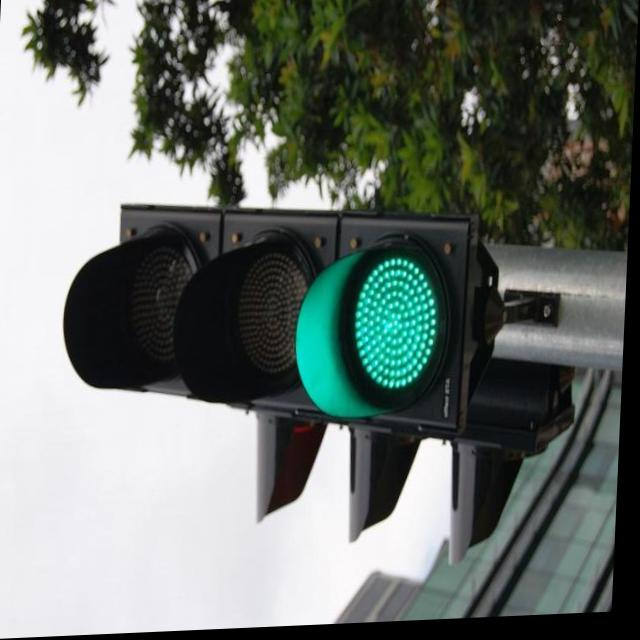green light: (60, 189, 469, 460)
